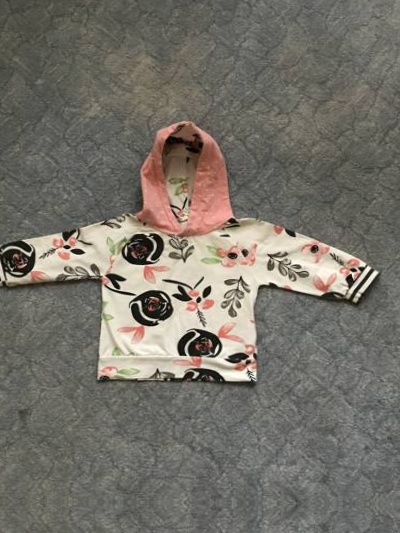Hoodie: (0, 104, 385, 397)
